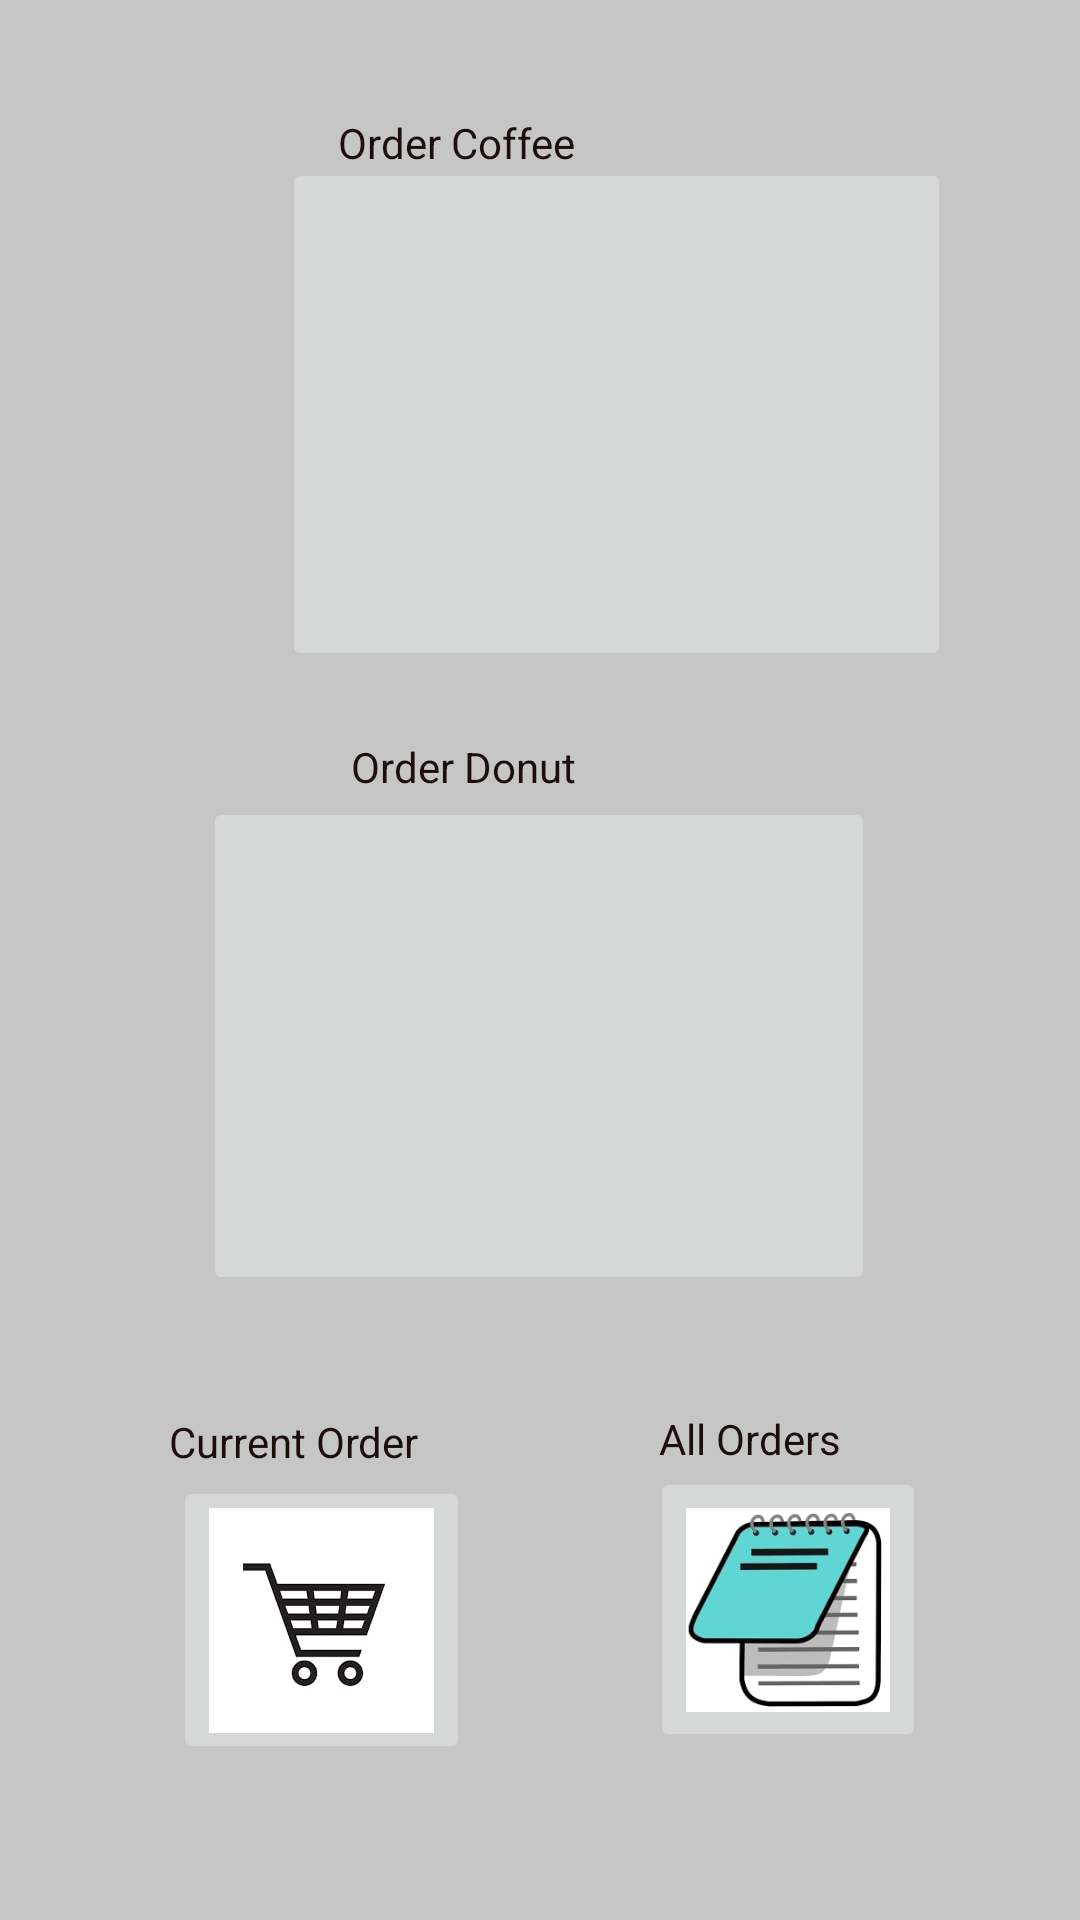

Screen size 1080 × 1920. Icon name, then its center in pixels as [x,y]:
imageButton to go store order activity: [788,1610]
